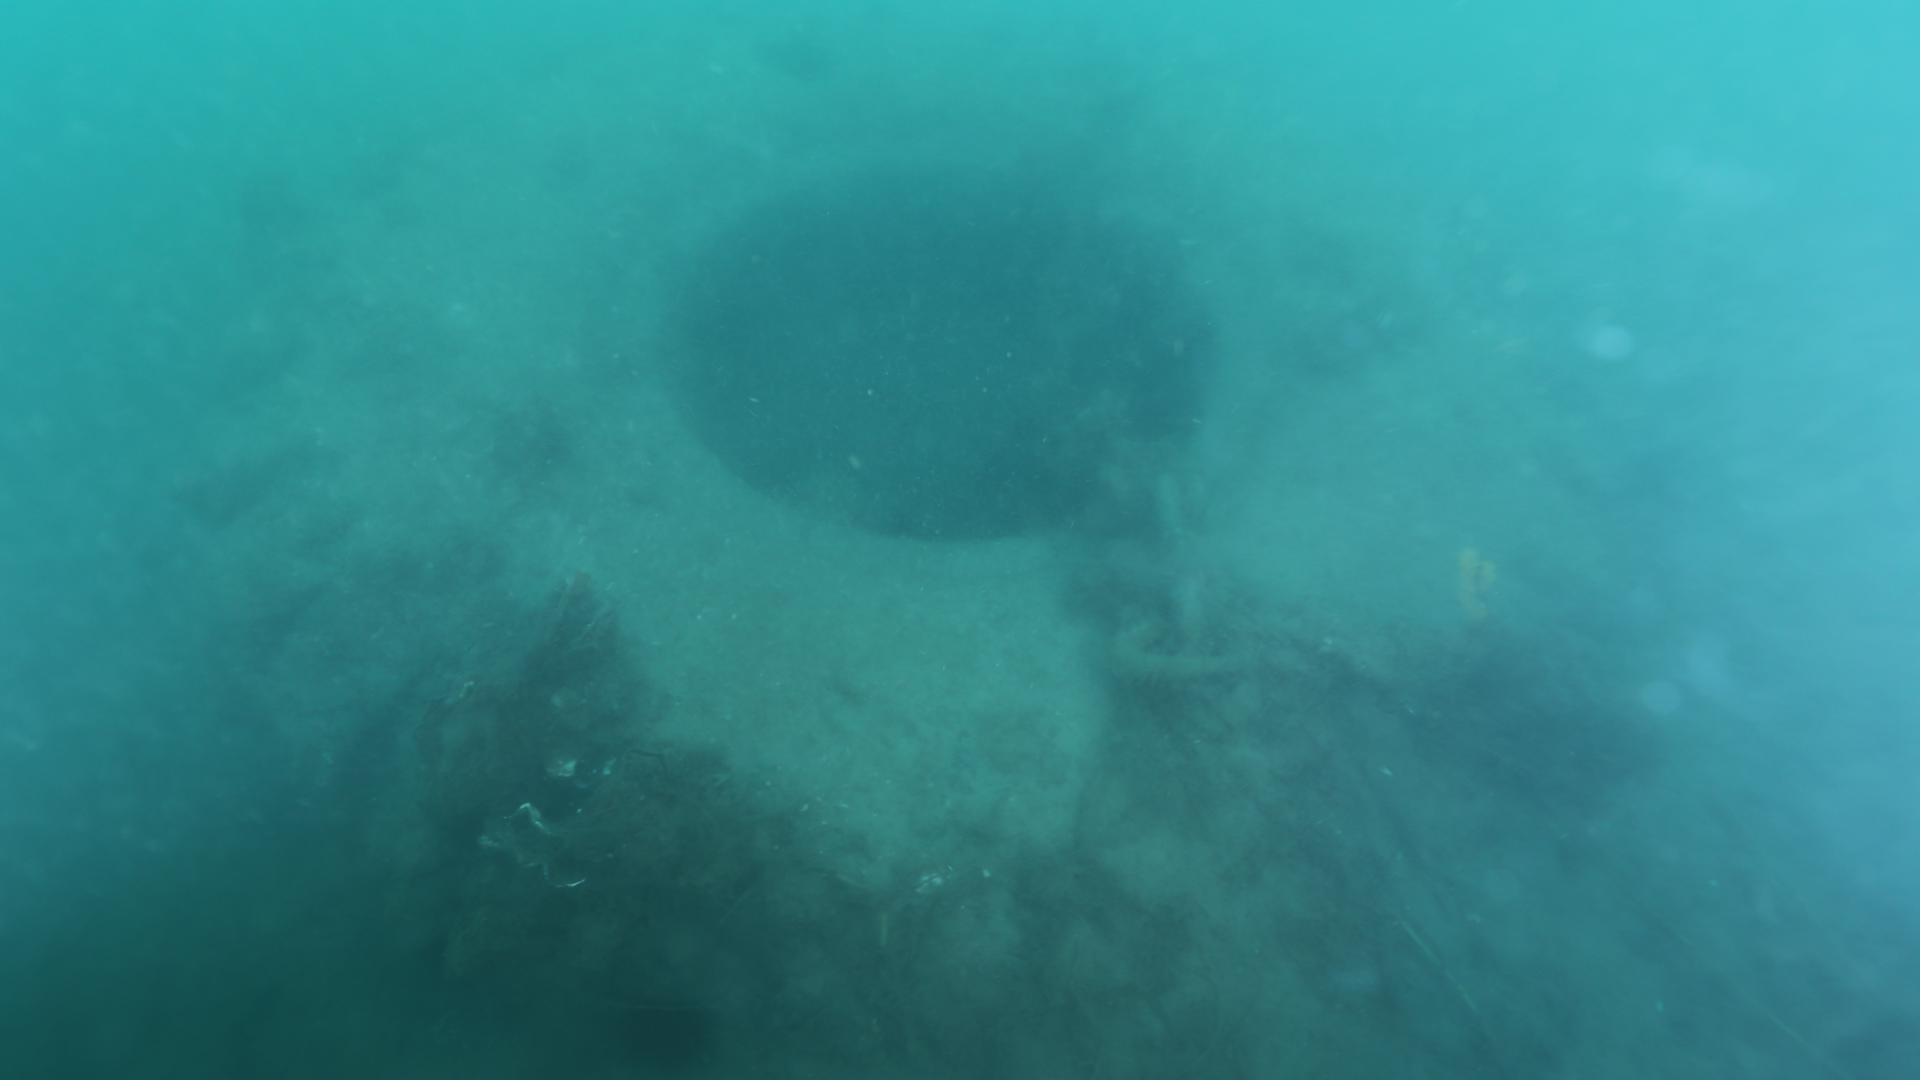tire: (161, 22, 1625, 884)
